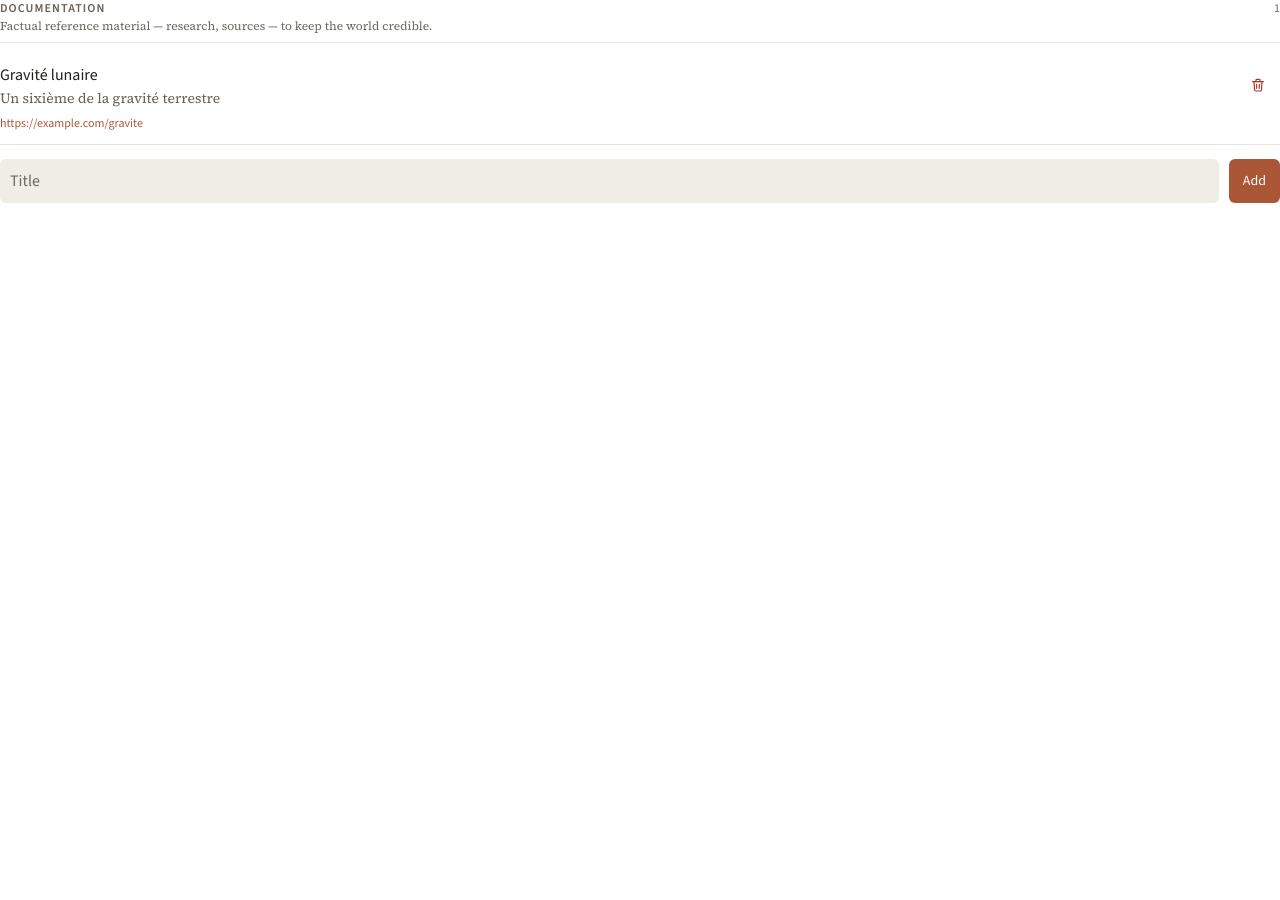
it: DocumentationPanel › does not delete the entry when the confirmation dialog is cancelled
Expected: the text "Gravité lunaire" is shown, [0,64,98,85]
Click the button with test id "documentation-delete-button" at (1258, 85), box [1236,63,1279,107]
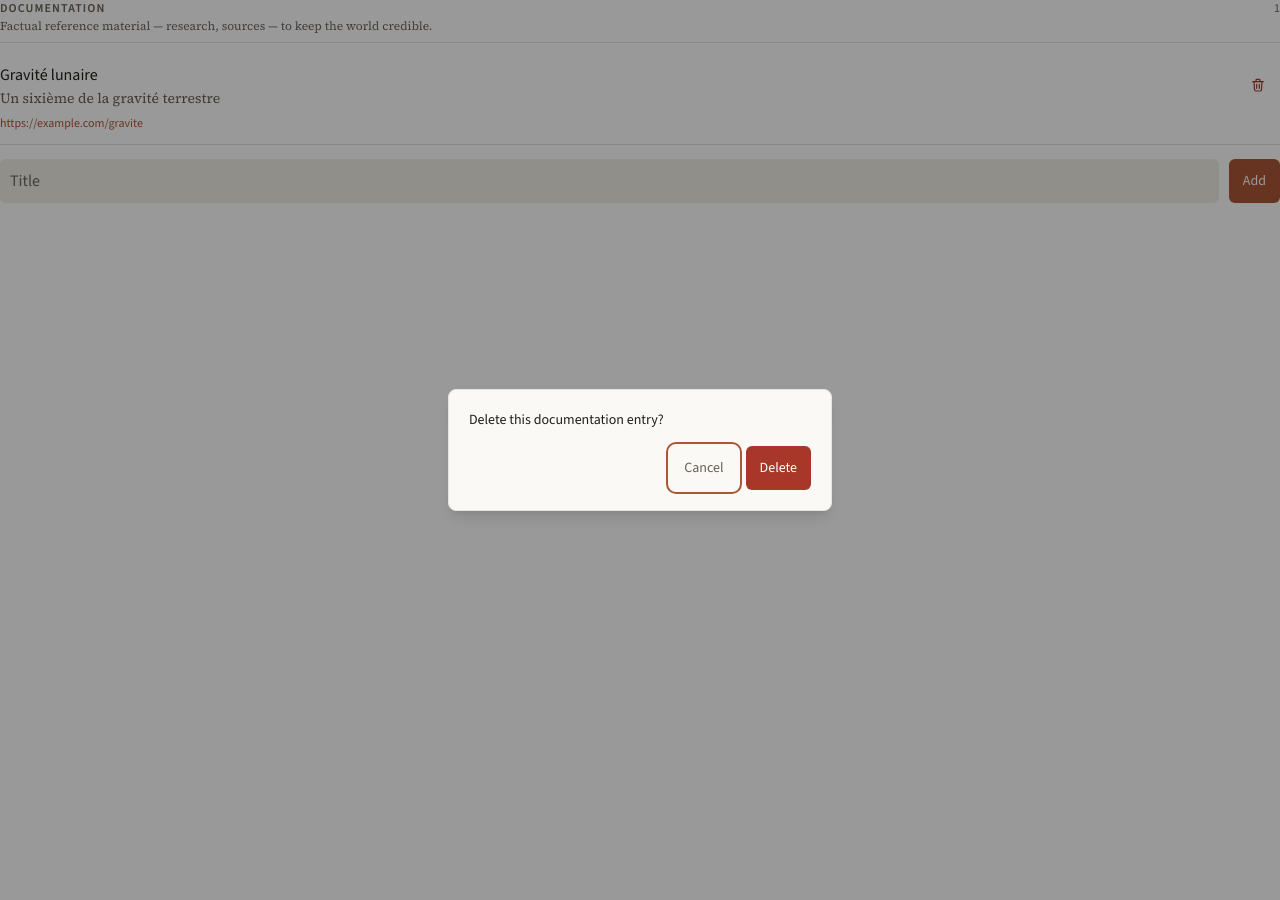
Click the button with test id "confirm-dialog-cancel" at (704, 468), box [670,446,738,490]
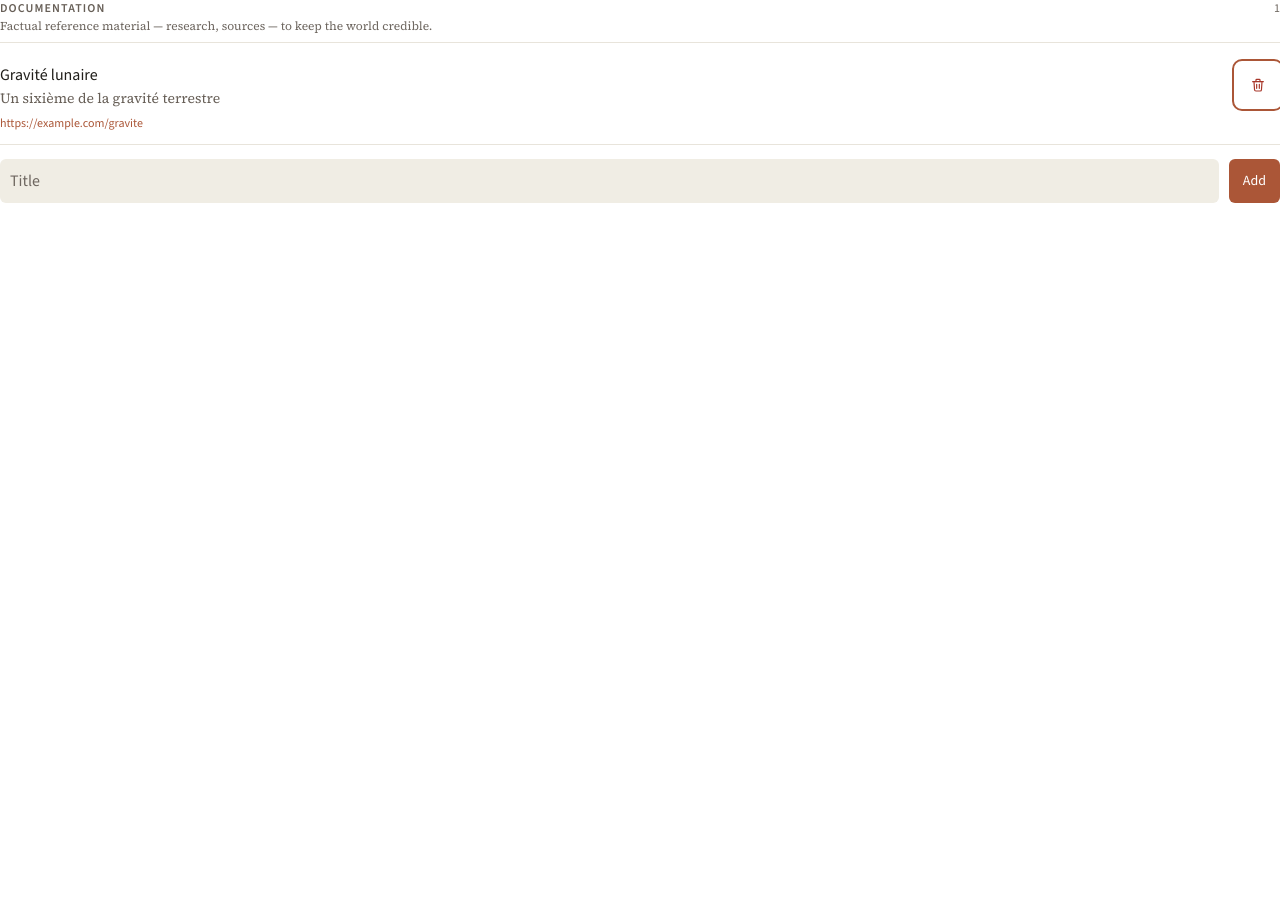
Expected: the link with test id "documentation-item" is shown, [0,64,220,108]
Expected: the dialog with test id "confirm-dialog" is gone
